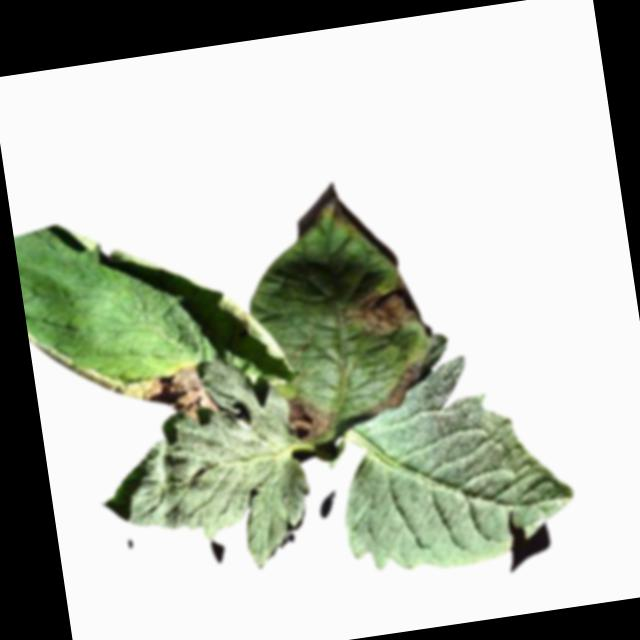Late_blight: (117, 359, 223, 435), (340, 278, 426, 340), (366, 361, 423, 412), (286, 390, 336, 444), (311, 195, 362, 240)
